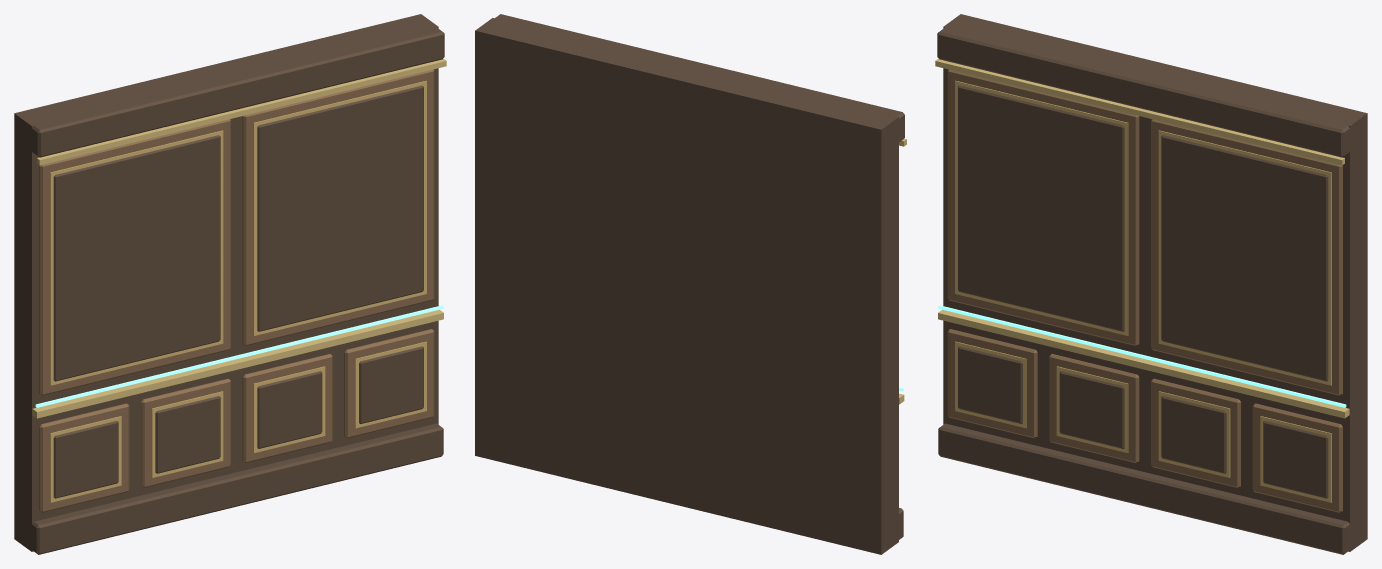
File: wall_ex_panel2.glb
3 views of the same model, side by side, from view 1: azimuth 30°, elevation 25°; view 2: azimuth 150°, elevation 25°; view 3: azimuth 330°, elevation 25° (orthographic).
Visible parts, largest first — view 1: wall_ex_panel2; view 2: wall_ex_panel2; view 3: wall_ex_panel2.
Boxes of the visible parts, x1,y1,x2,y2 form: wall_ex_panel2: (14,14,446,554); wall_ex_panel2: (475,14,906,554); wall_ex_panel2: (935,14,1367,554).
Size of the model in its own units: 4 by 4 by 0.435.
